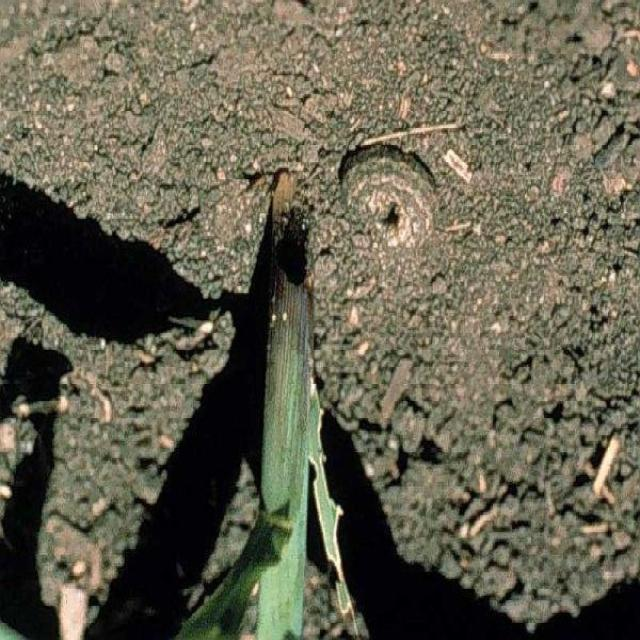black cutworm: (329, 148, 439, 252)
